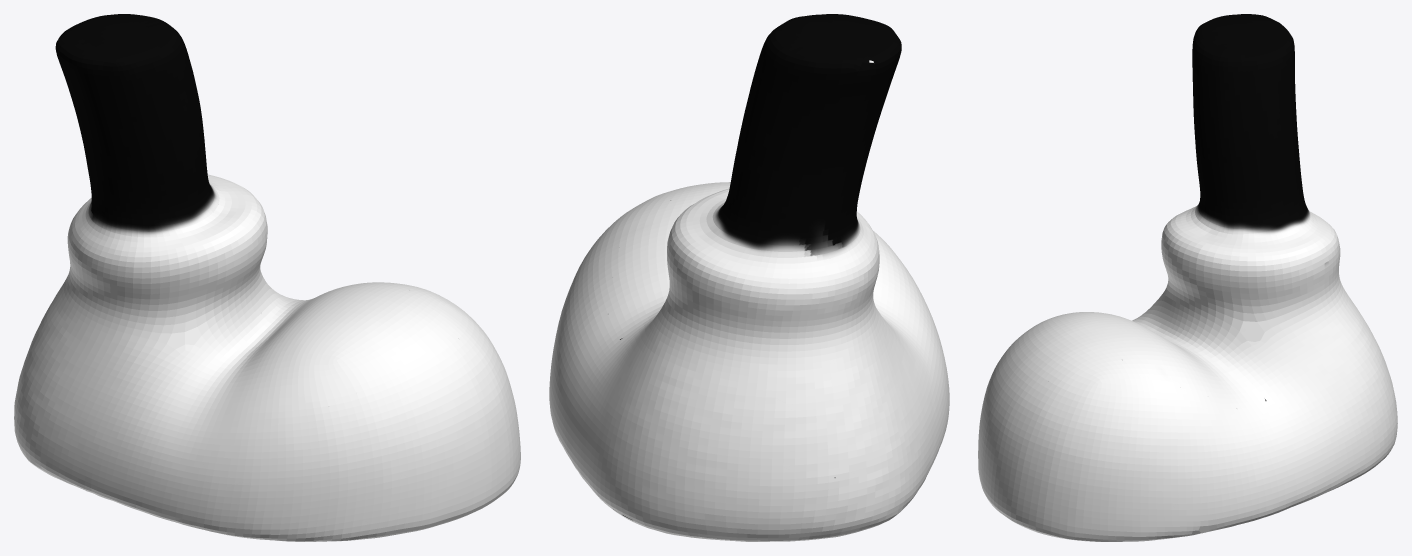
The picture shows the model from 3 angles, left to right: view 1: azimuth 30°, elevation 25°; view 2: azimuth 150°, elevation 25°; view 3: azimuth 270°, elevation 25°; orthographic projection. The views are drawn at different scales.
Parts seen in each view (by area): view 1: LEG_L; view 2: LEG_L; view 3: LEG_L.
Part boxes in pixels (left/top/right/bottom): LEG_L: left=14, top=14, right=520, bottom=541; LEG_L: left=549, top=14, right=949, bottom=541; LEG_L: left=978, top=14, right=1397, bottom=541.
Bounding box in the file's own units: 30.14 × 32.24 × 32.32.
Materials: 1 (1 with a texture image).
